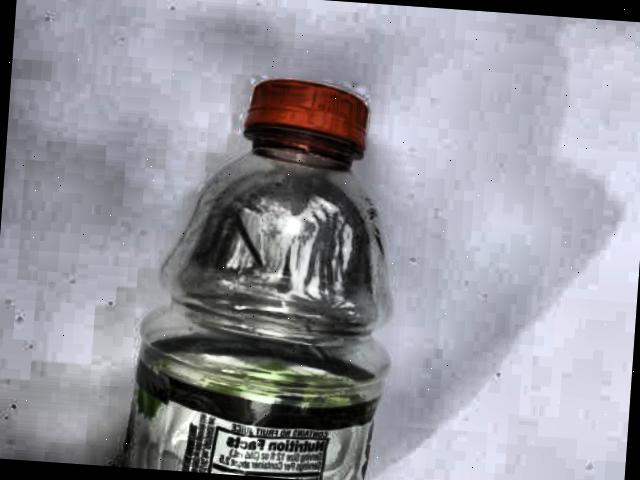Bottles: (73, 59, 438, 480)
